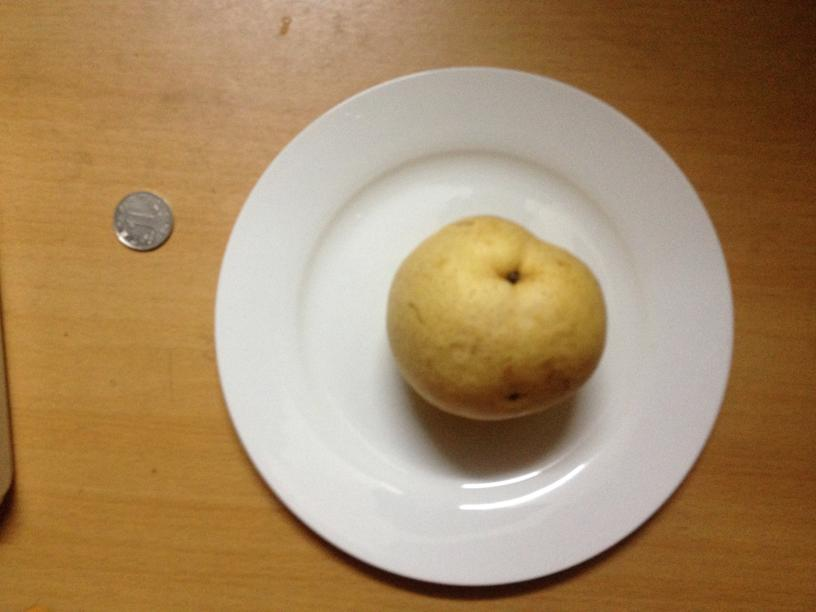coin: (110, 190, 174, 249)
pear: (384, 216, 609, 421)
